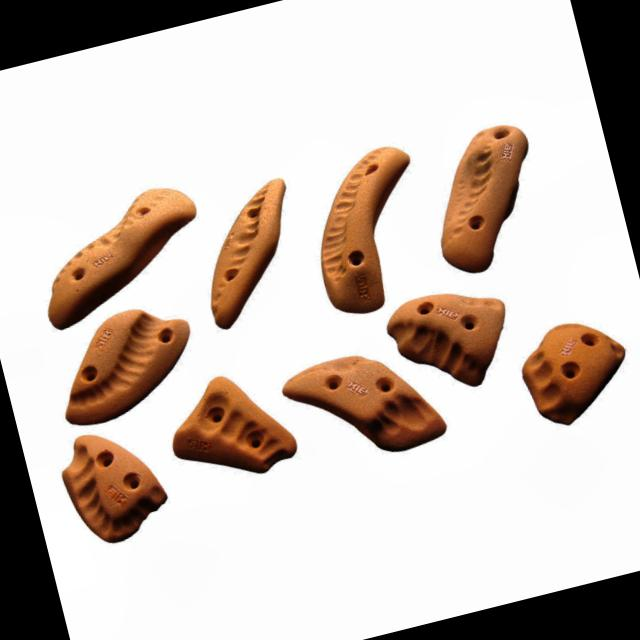Hold: (20, 180, 215, 332), (294, 142, 444, 324), (278, 337, 452, 479), (178, 175, 322, 337), (415, 117, 555, 282), (29, 301, 210, 428), (154, 361, 302, 491), (50, 414, 178, 557), (512, 300, 640, 438), (376, 281, 520, 396)
